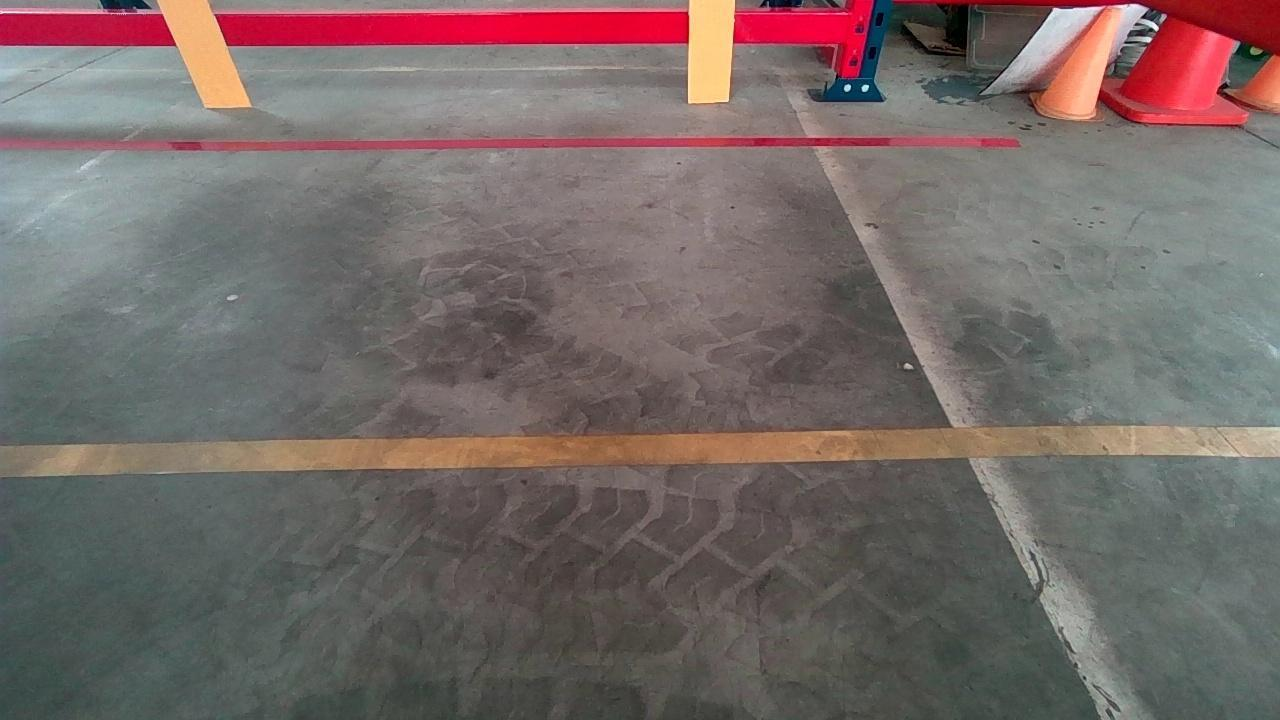h_rack: (5, 5, 835, 48)
orange_strip: (157, 0, 250, 103), (688, 0, 734, 100)
red_line: (0, 139, 1022, 150)
